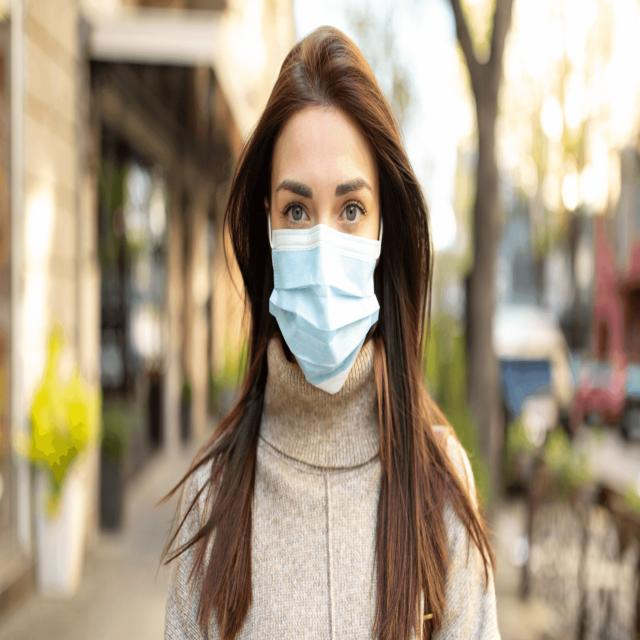1_mascarilla: (266, 209, 383, 396)
